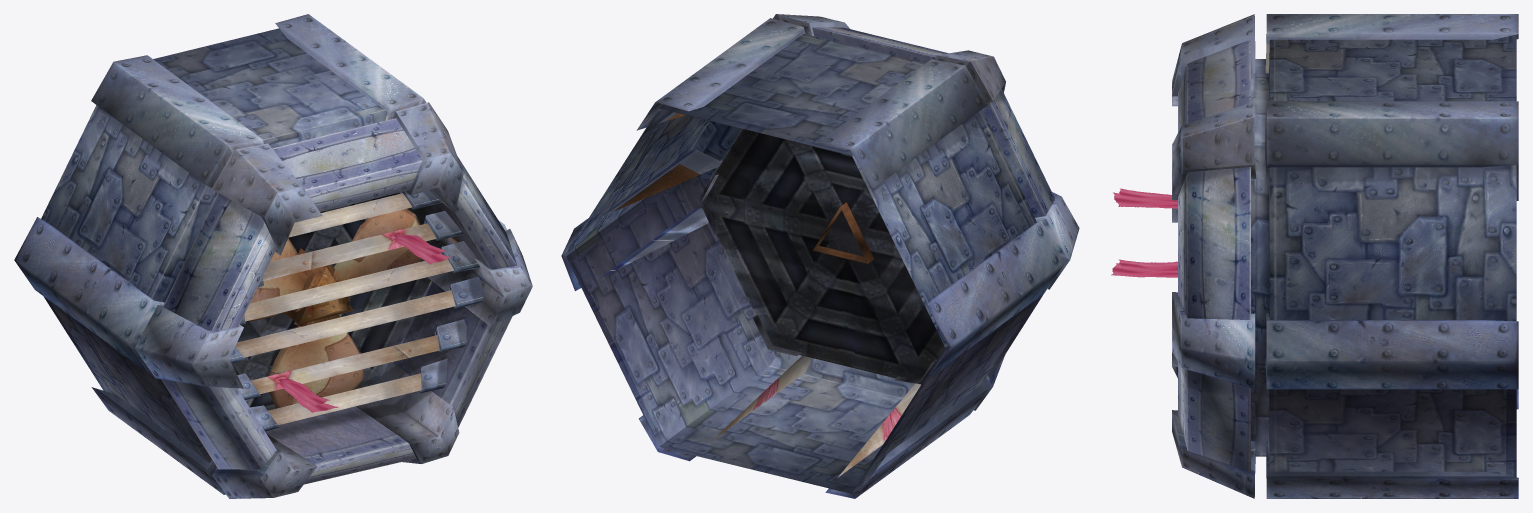
The model's file is obj_madaprfan0102.glb.
3 views of the same model, side by side, from view 1: azimuth 30°, elevation 25°; view 2: azimuth 150°, elevation 25°; view 3: azimuth 270°, elevation 25° (orthographic). The views are drawn at different scales.
Visible parts, largest first — view 1: part_2, part_1, part_3, part_0; view 2: part_2, part_1; view 3: part_2, part_3, part_0.
Part boxes in pixels (box(x1,y1,x2,y2)): part_2: box(14, 14, 532, 498); part_1: box(249, 209, 421, 408); part_3: box(277, 378, 338, 412); part_0: box(392, 234, 451, 264); part_2: box(561, 14, 1079, 498); part_1: box(813, 202, 873, 263); part_2: box(1172, 14, 1518, 498); part_3: box(1111, 259, 1177, 277); part_0: box(1113, 188, 1177, 208).
Size of the model in its own units: 11.95 by 10.31 by 9.99.
Materials: 2 (2 with a texture image).
